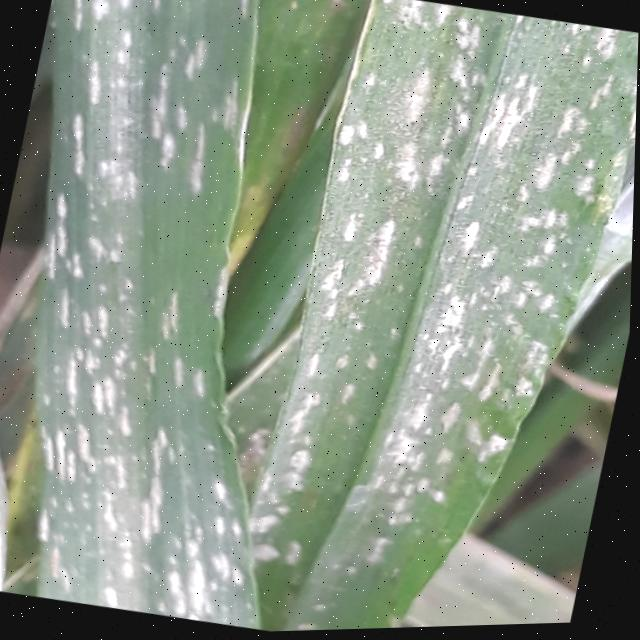powder_mildew: (0, 0, 388, 637), (268, 0, 640, 633)
